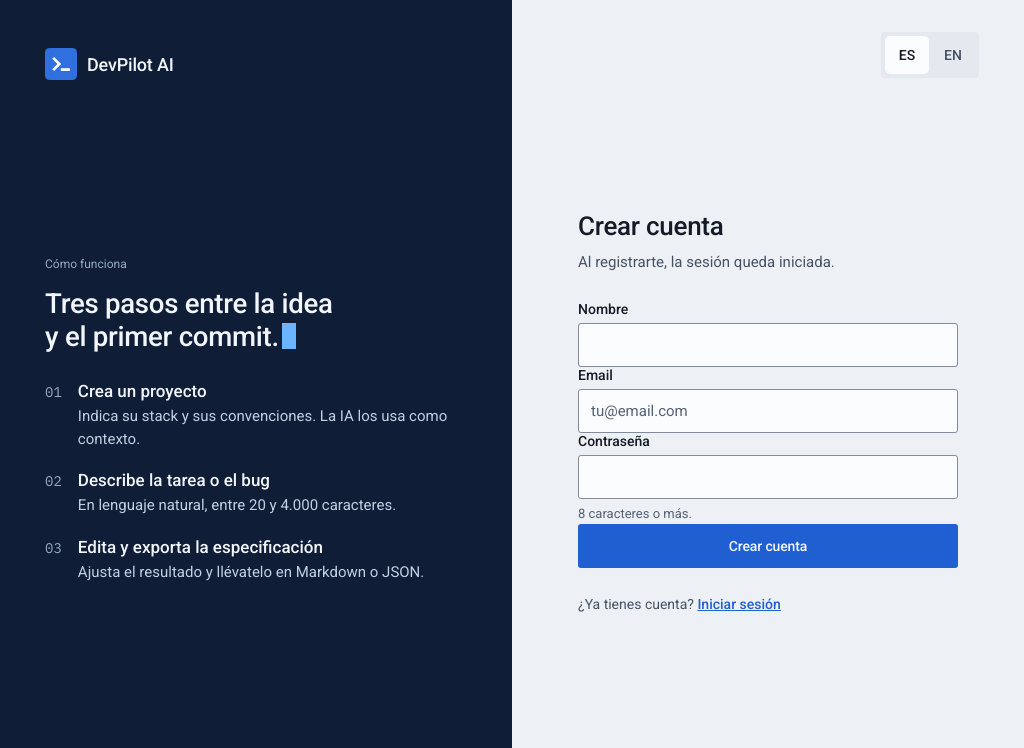
it: signing in › opens the application right after registering
The width and height of the screenshot is (1024, 748).
Type "Lucía Ferrer" into the field labelled "Nombre". click: (768, 345)
box: [578,323,958,367]
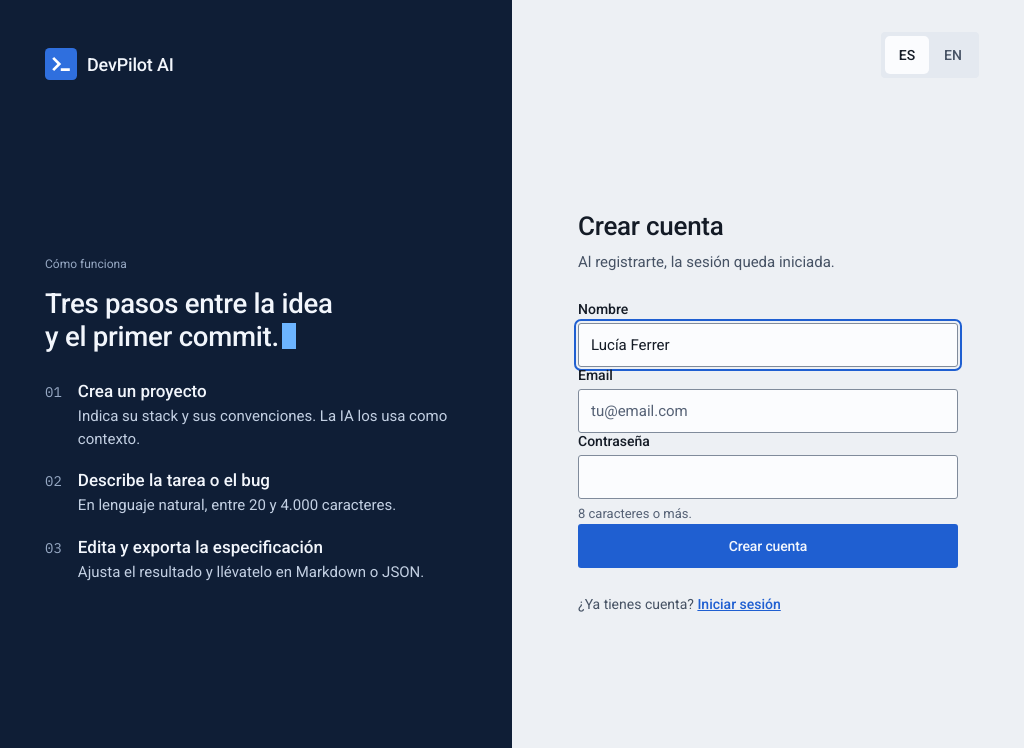
Type "lucia@example.com" into the field labelled "Email". click: (768, 411)
box: [578,389,958,433]
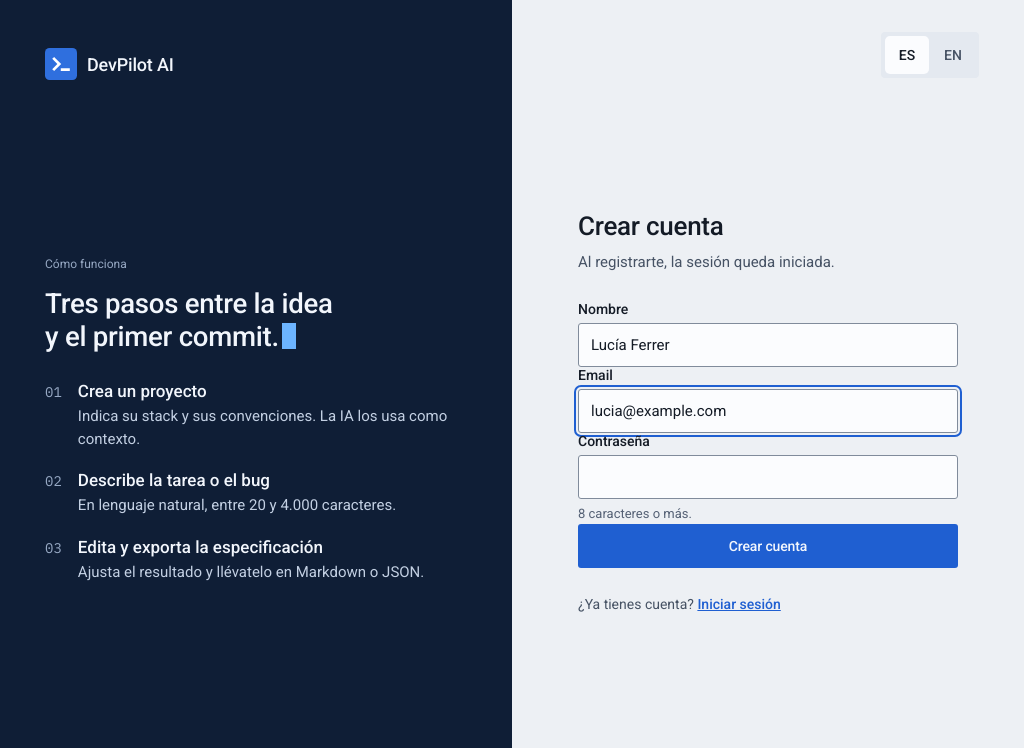
Type "correct horse battery" into the password field labelled "Contraseña". click: (768, 477)
box: [578,455,958,499]
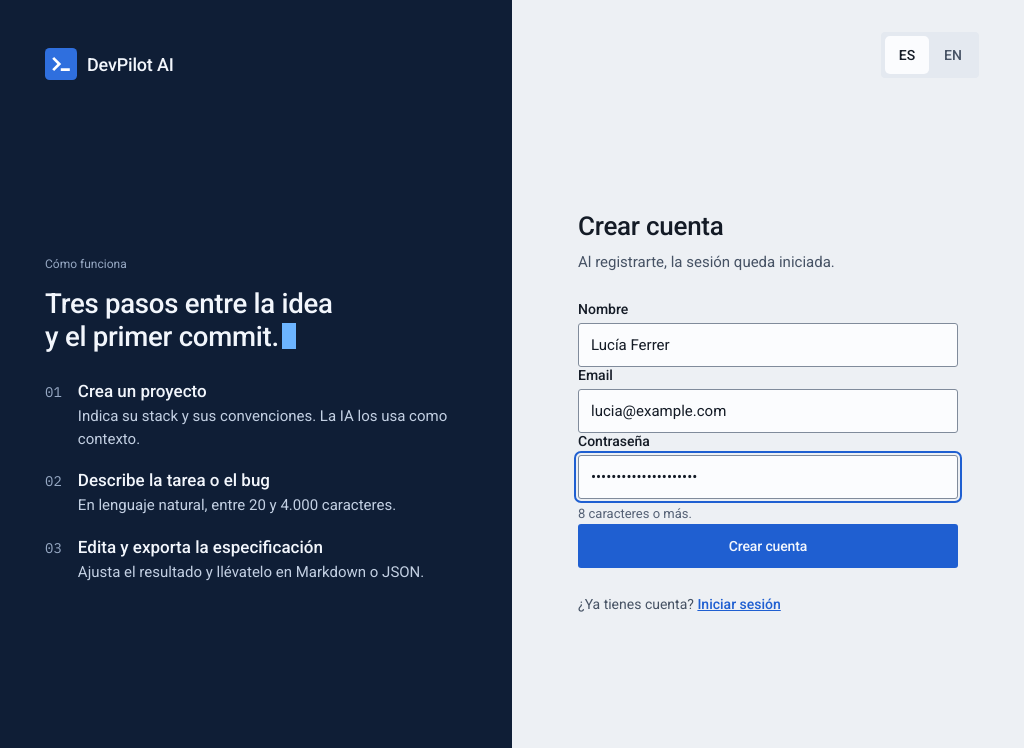
Click the button "Crear cuenta". click: (768, 546)
box: [578,524,958,568]
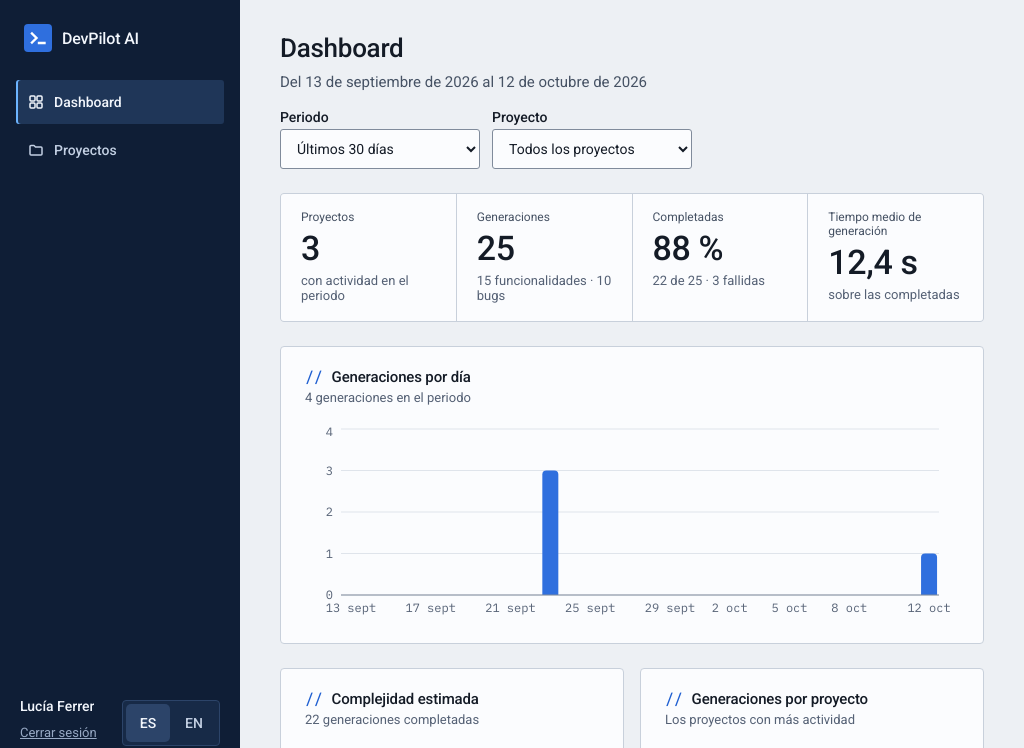
Now the heading "Dashboard" is shown, box [280,33,404,63]
